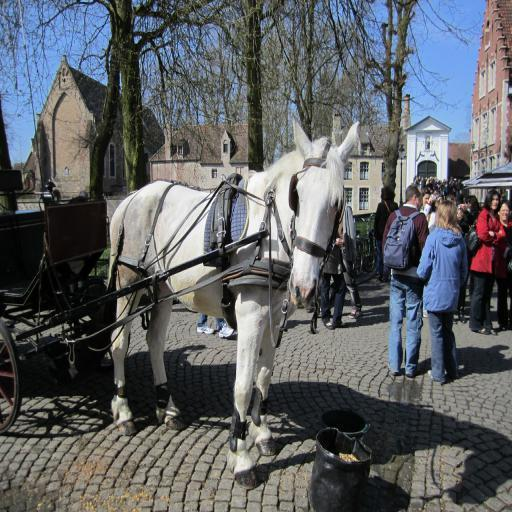horse: (106, 112, 362, 492)
